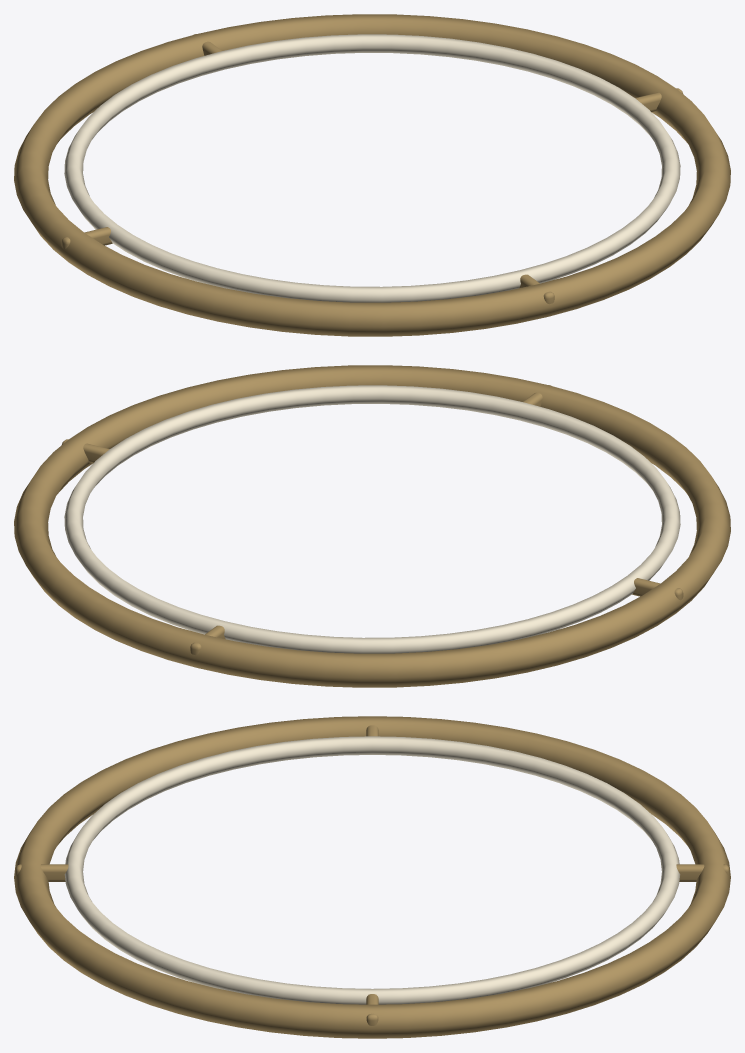
File: echo_pressure_ring_atelier.glb
The picture shows the model from 3 angles, top to bottom: view 1: azimuth 30°, elevation 25°; view 2: azimuth 150°, elevation 25°; view 3: azimuth 270°, elevation 25°; orthographic projection.
Visible parts, largest first — view 1: echo_pressure_ring_atelier__Painted_echo_pressure_ring_ateli (×2); view 2: echo_pressure_ring_atelier__Painted_echo_pressure_ring_ateli (×2); view 3: echo_pressure_ring_atelier__Painted_echo_pressure_ring_ateli (×2).
Boxes of the visible parts, box(x1,y1,x2,y2) form: echo_pressure_ring_atelier__Painted_echo_pressure_ring_ateli (×2): box(14, 14, 730, 336); echo_pressure_ring_atelier__Painted_echo_pressure_ring_ateli (×2): box(14, 365, 730, 687); echo_pressure_ring_atelier__Painted_echo_pressure_ring_ateli (×2): box(14, 716, 730, 1038).
Bounding box in the file's own units: 0.924 × 0.0381 × 0.924.
